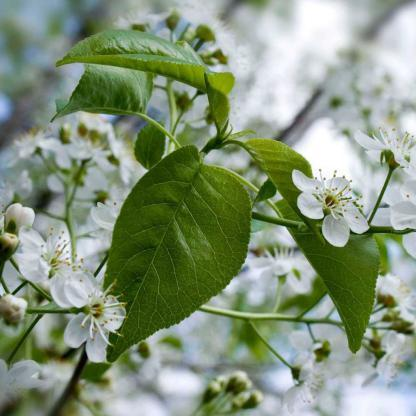Cherry leaf: (97, 134, 258, 388), (224, 124, 326, 230)
